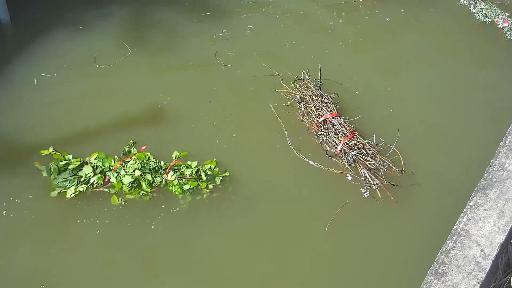twig: (272, 78, 383, 193), (20, 153, 240, 203), (450, 0, 512, 43)
